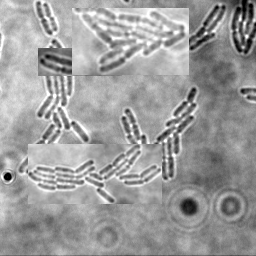Dividing: (34, 1, 52, 37), (41, 3, 57, 33)
Microcolony: (18, 40, 89, 199), (28, 144, 162, 204), (72, 8, 189, 75), (120, 87, 197, 181), (38, 48, 122, 76), (184, 5, 226, 52), (230, 1, 255, 56)
